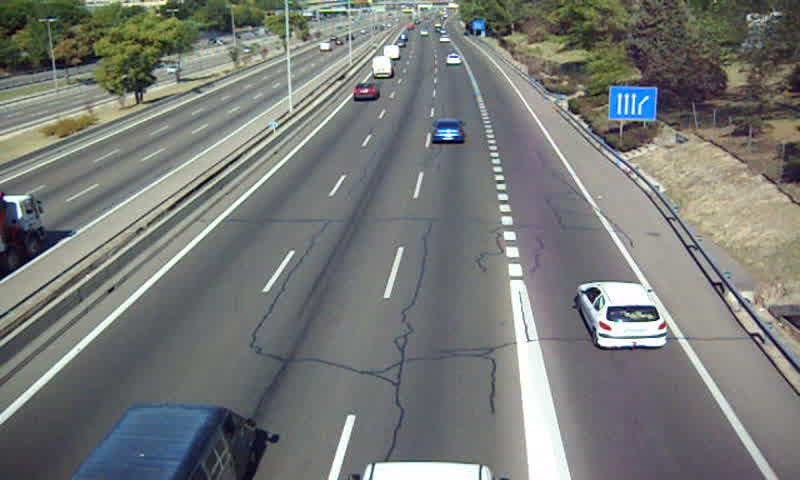car: (578, 281, 669, 352), (430, 116, 468, 144), (352, 82, 379, 102)
van: (370, 56, 396, 78)
